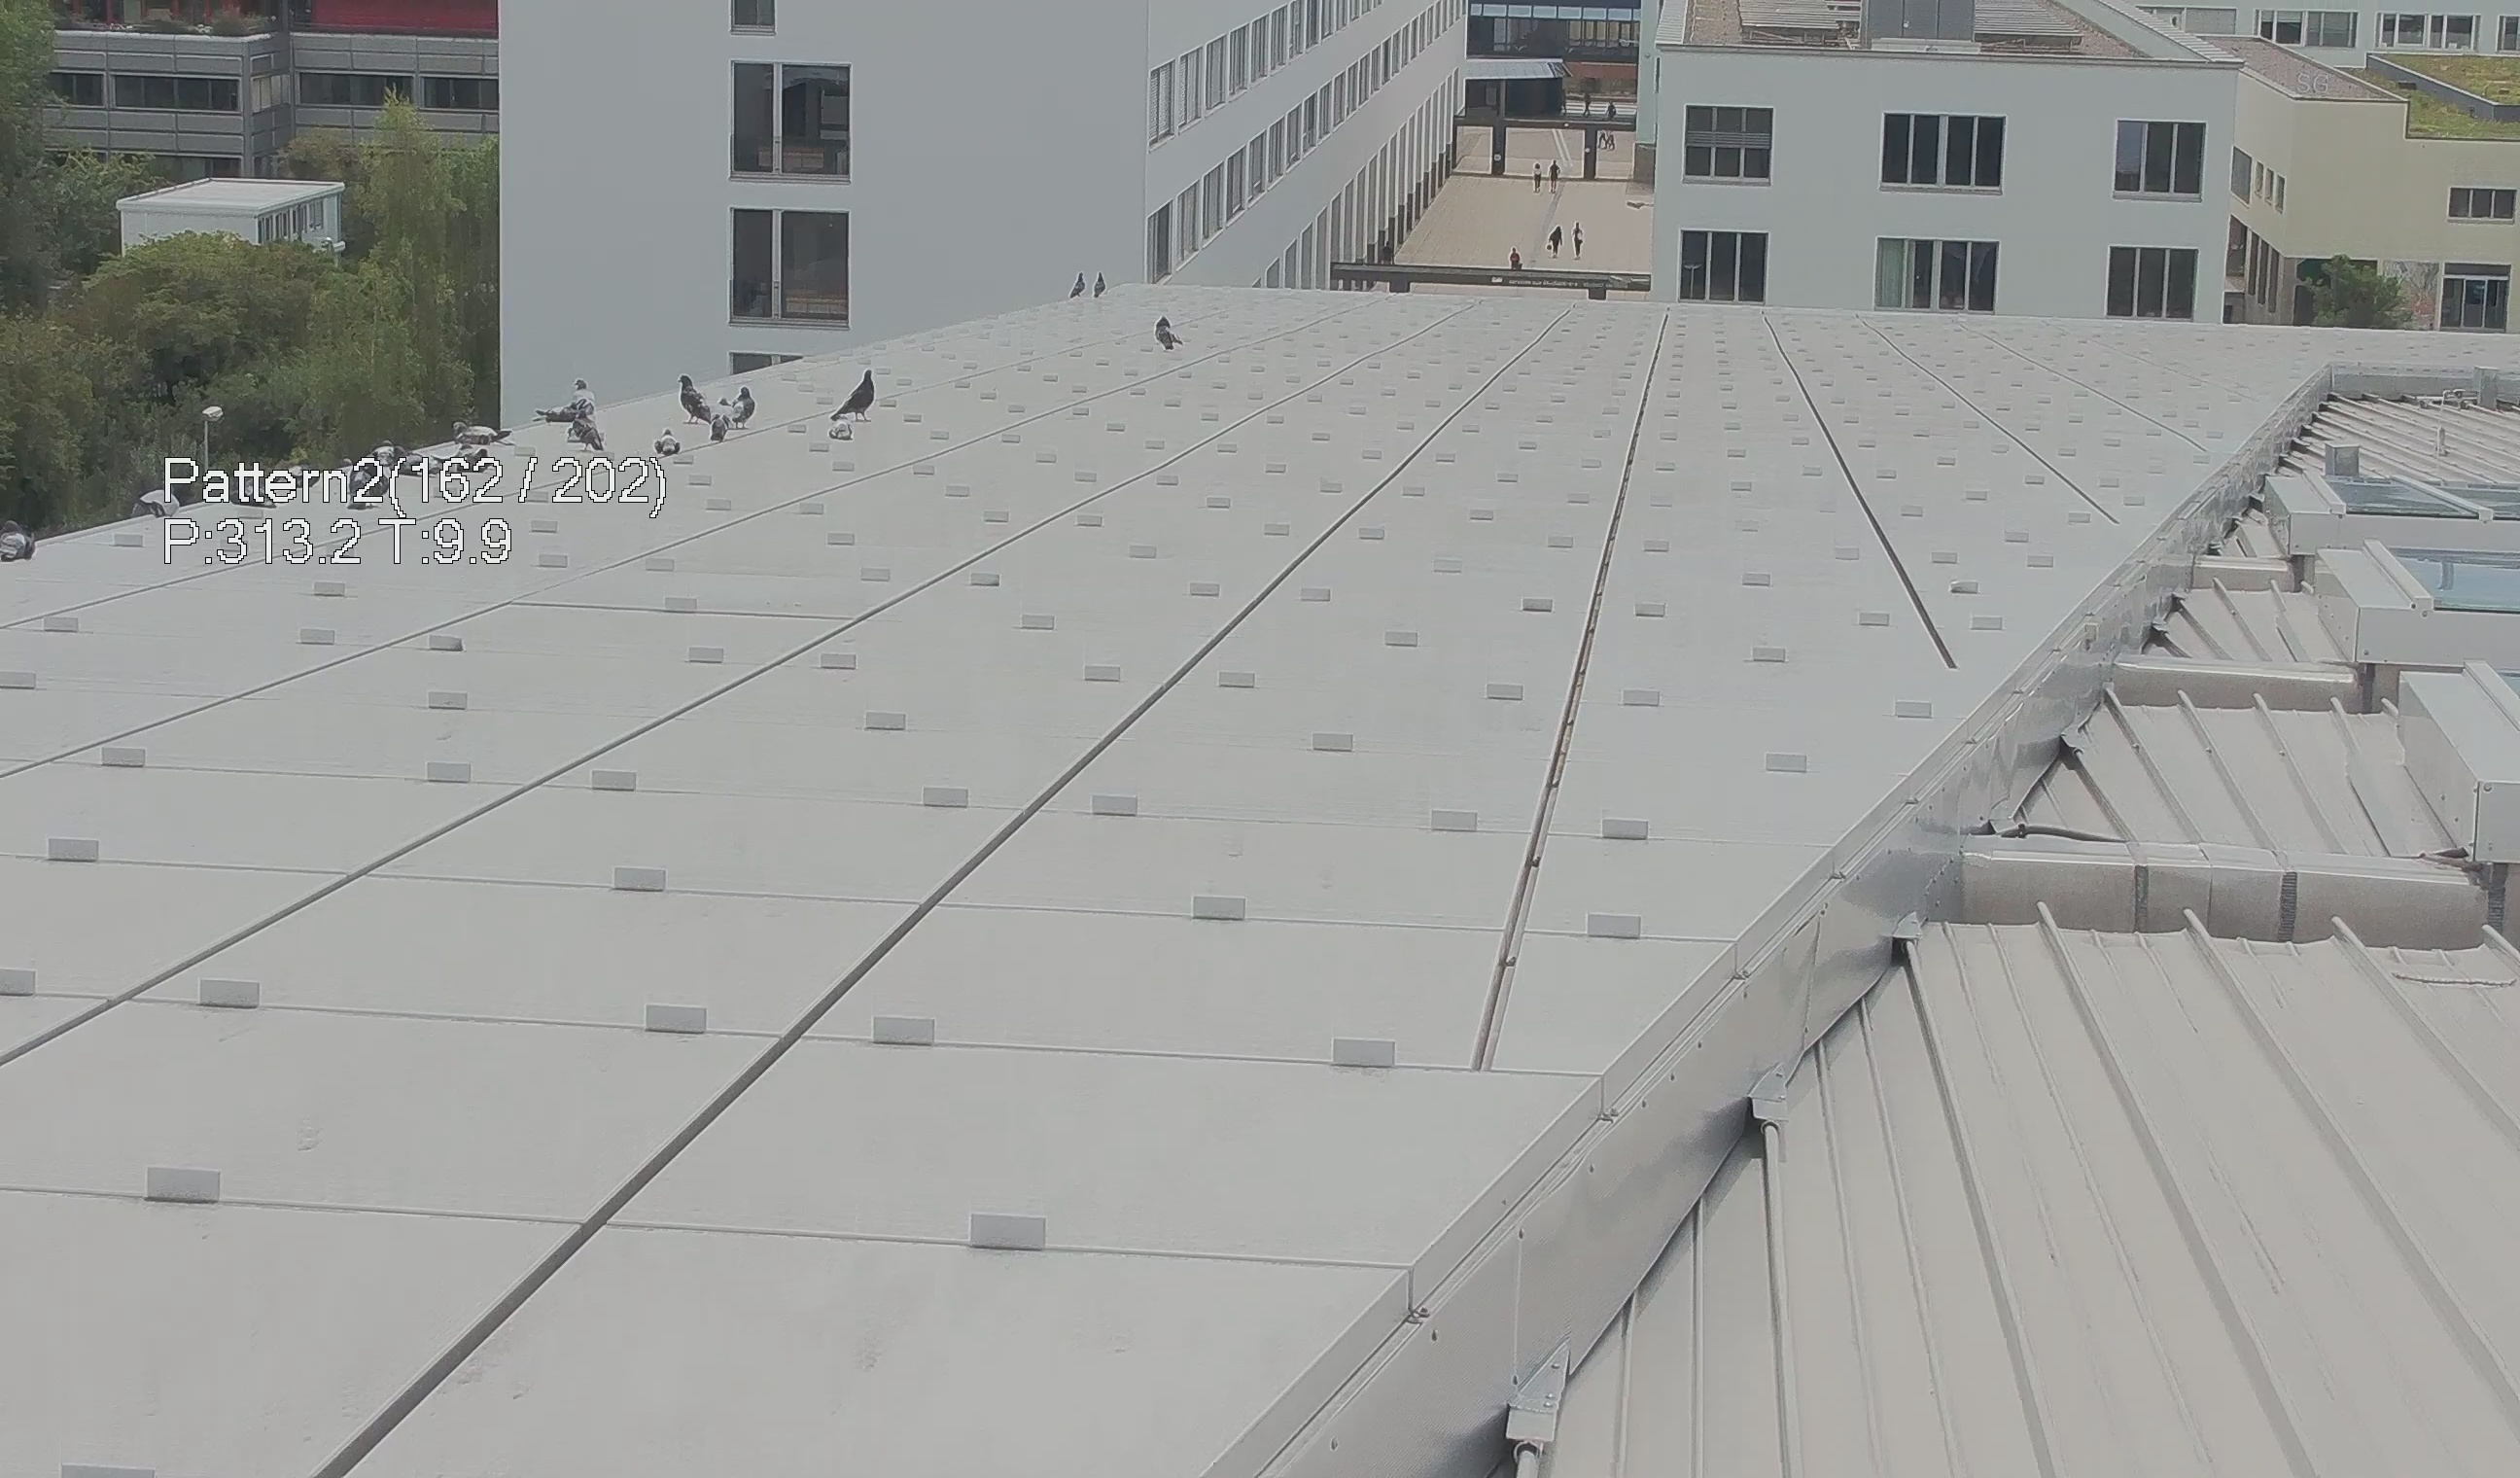Pigeon: (814, 357, 870, 424), (447, 417, 513, 449), (672, 375, 712, 426), (568, 403, 605, 452), (732, 380, 763, 429), (1152, 311, 1185, 354), (710, 394, 737, 447), (647, 426, 684, 459), (529, 405, 582, 426), (823, 413, 856, 442), (570, 375, 594, 408), (373, 436, 396, 470), (1069, 271, 1087, 301), (1092, 269, 1108, 297)
